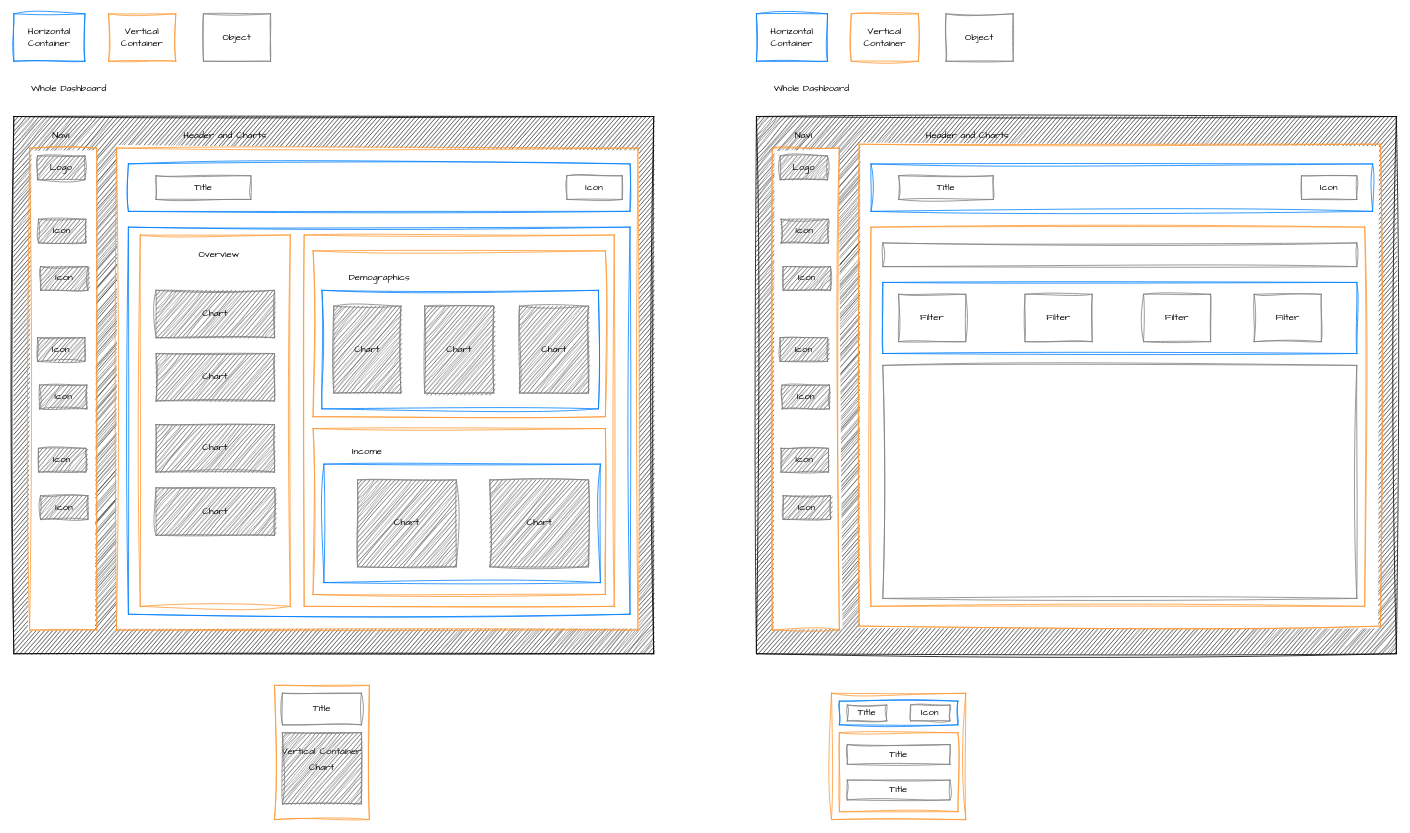
Some shapes in this 1410 by 833 pixel diagram are drawn without their labels. Here are the shapes that lost their labels. From the top down, the box of each, then its label:
(882, 242, 1357, 267): Employee List
(882, 365, 1357, 598): List
